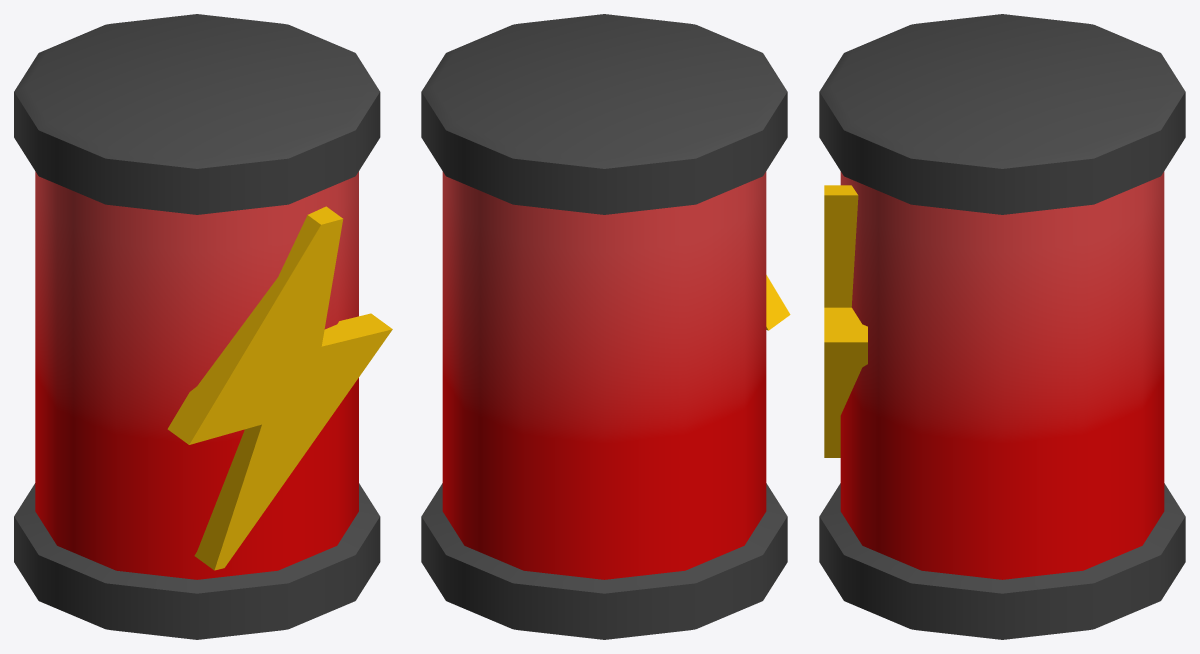
Rendered from Energy_Red.fbx.
3 renders of one model, left to right at view 1: azimuth 30°, elevation 25°; view 2: azimuth 150°, elevation 25°; view 3: azimuth 270°, elevation 25°, orthographic.
Parts seen in each view (by area): view 1: Energy_Red; view 2: Energy_Red; view 3: Energy_Red.
Part boxes in pixels (box(x1,y1,x2,y2)): Energy_Red: box(14, 14, 392, 639); Energy_Red: box(421, 14, 790, 639); Energy_Red: box(819, 14, 1185, 639).
Bounding box in the file's own units: 28.54 × 41.37 × 28.54.
